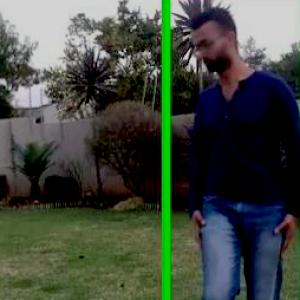follow: (182, 10, 299, 299)
